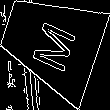M_W: (24, 12, 78, 73)
